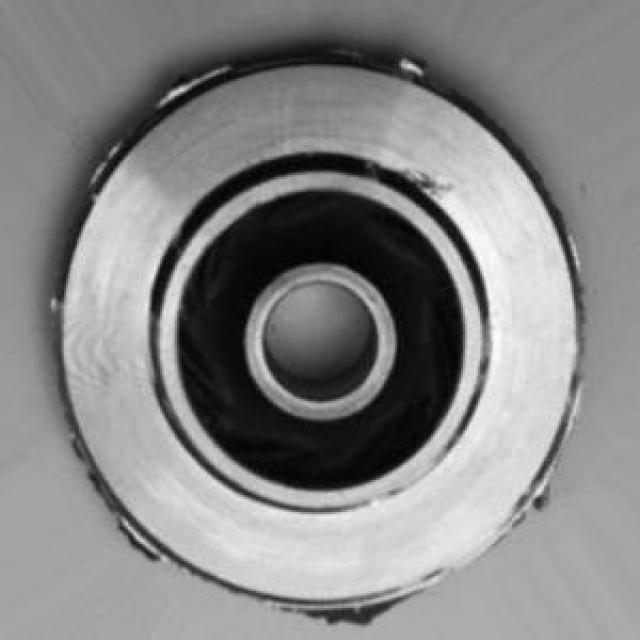Defect: (314, 588, 406, 630), (388, 159, 447, 209), (388, 44, 446, 93), (166, 72, 231, 107)
